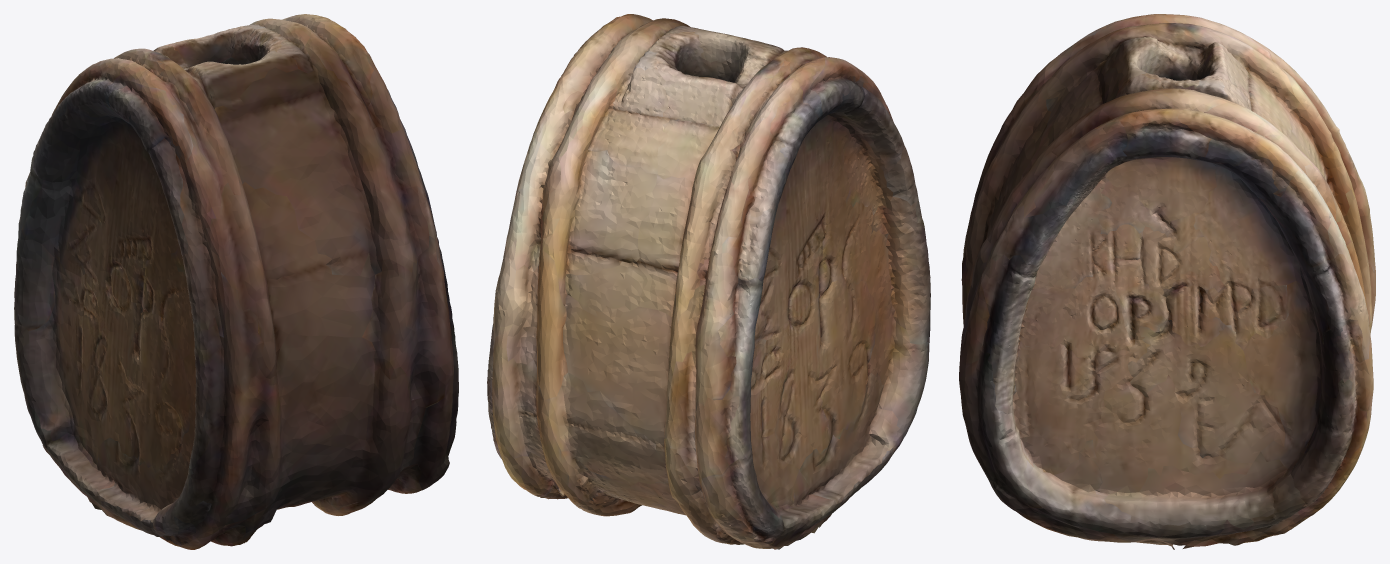
File: lagg-mini.gltf
3 renders of one model, left to right at view 1: azimuth 30°, elevation 25°; view 2: azimuth 150°, elevation 25°; view 3: azimuth 270°, elevation 25°, orthographic. The views are drawn at different scales.
Parts seen in each view (by area): view 1: Mesh_0; view 2: Mesh_0; view 3: Mesh_0.
Boxes of the visible parts, x1,y1,x2,y2 form: Mesh_0: (14,14,458,549); Mesh_0: (487,14,930,549); Mesh_0: (959,14,1375,549).
Size of the model in its own units: 0.5577 by 0.905 by 0.7663.
1 material, 1 textured.
